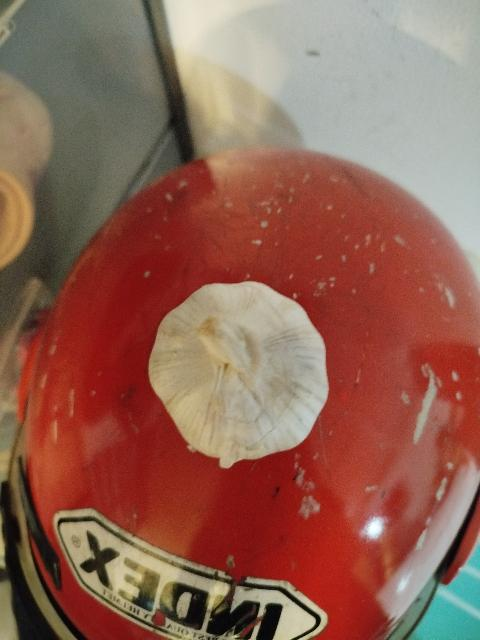garlic: (148, 280, 330, 468)
